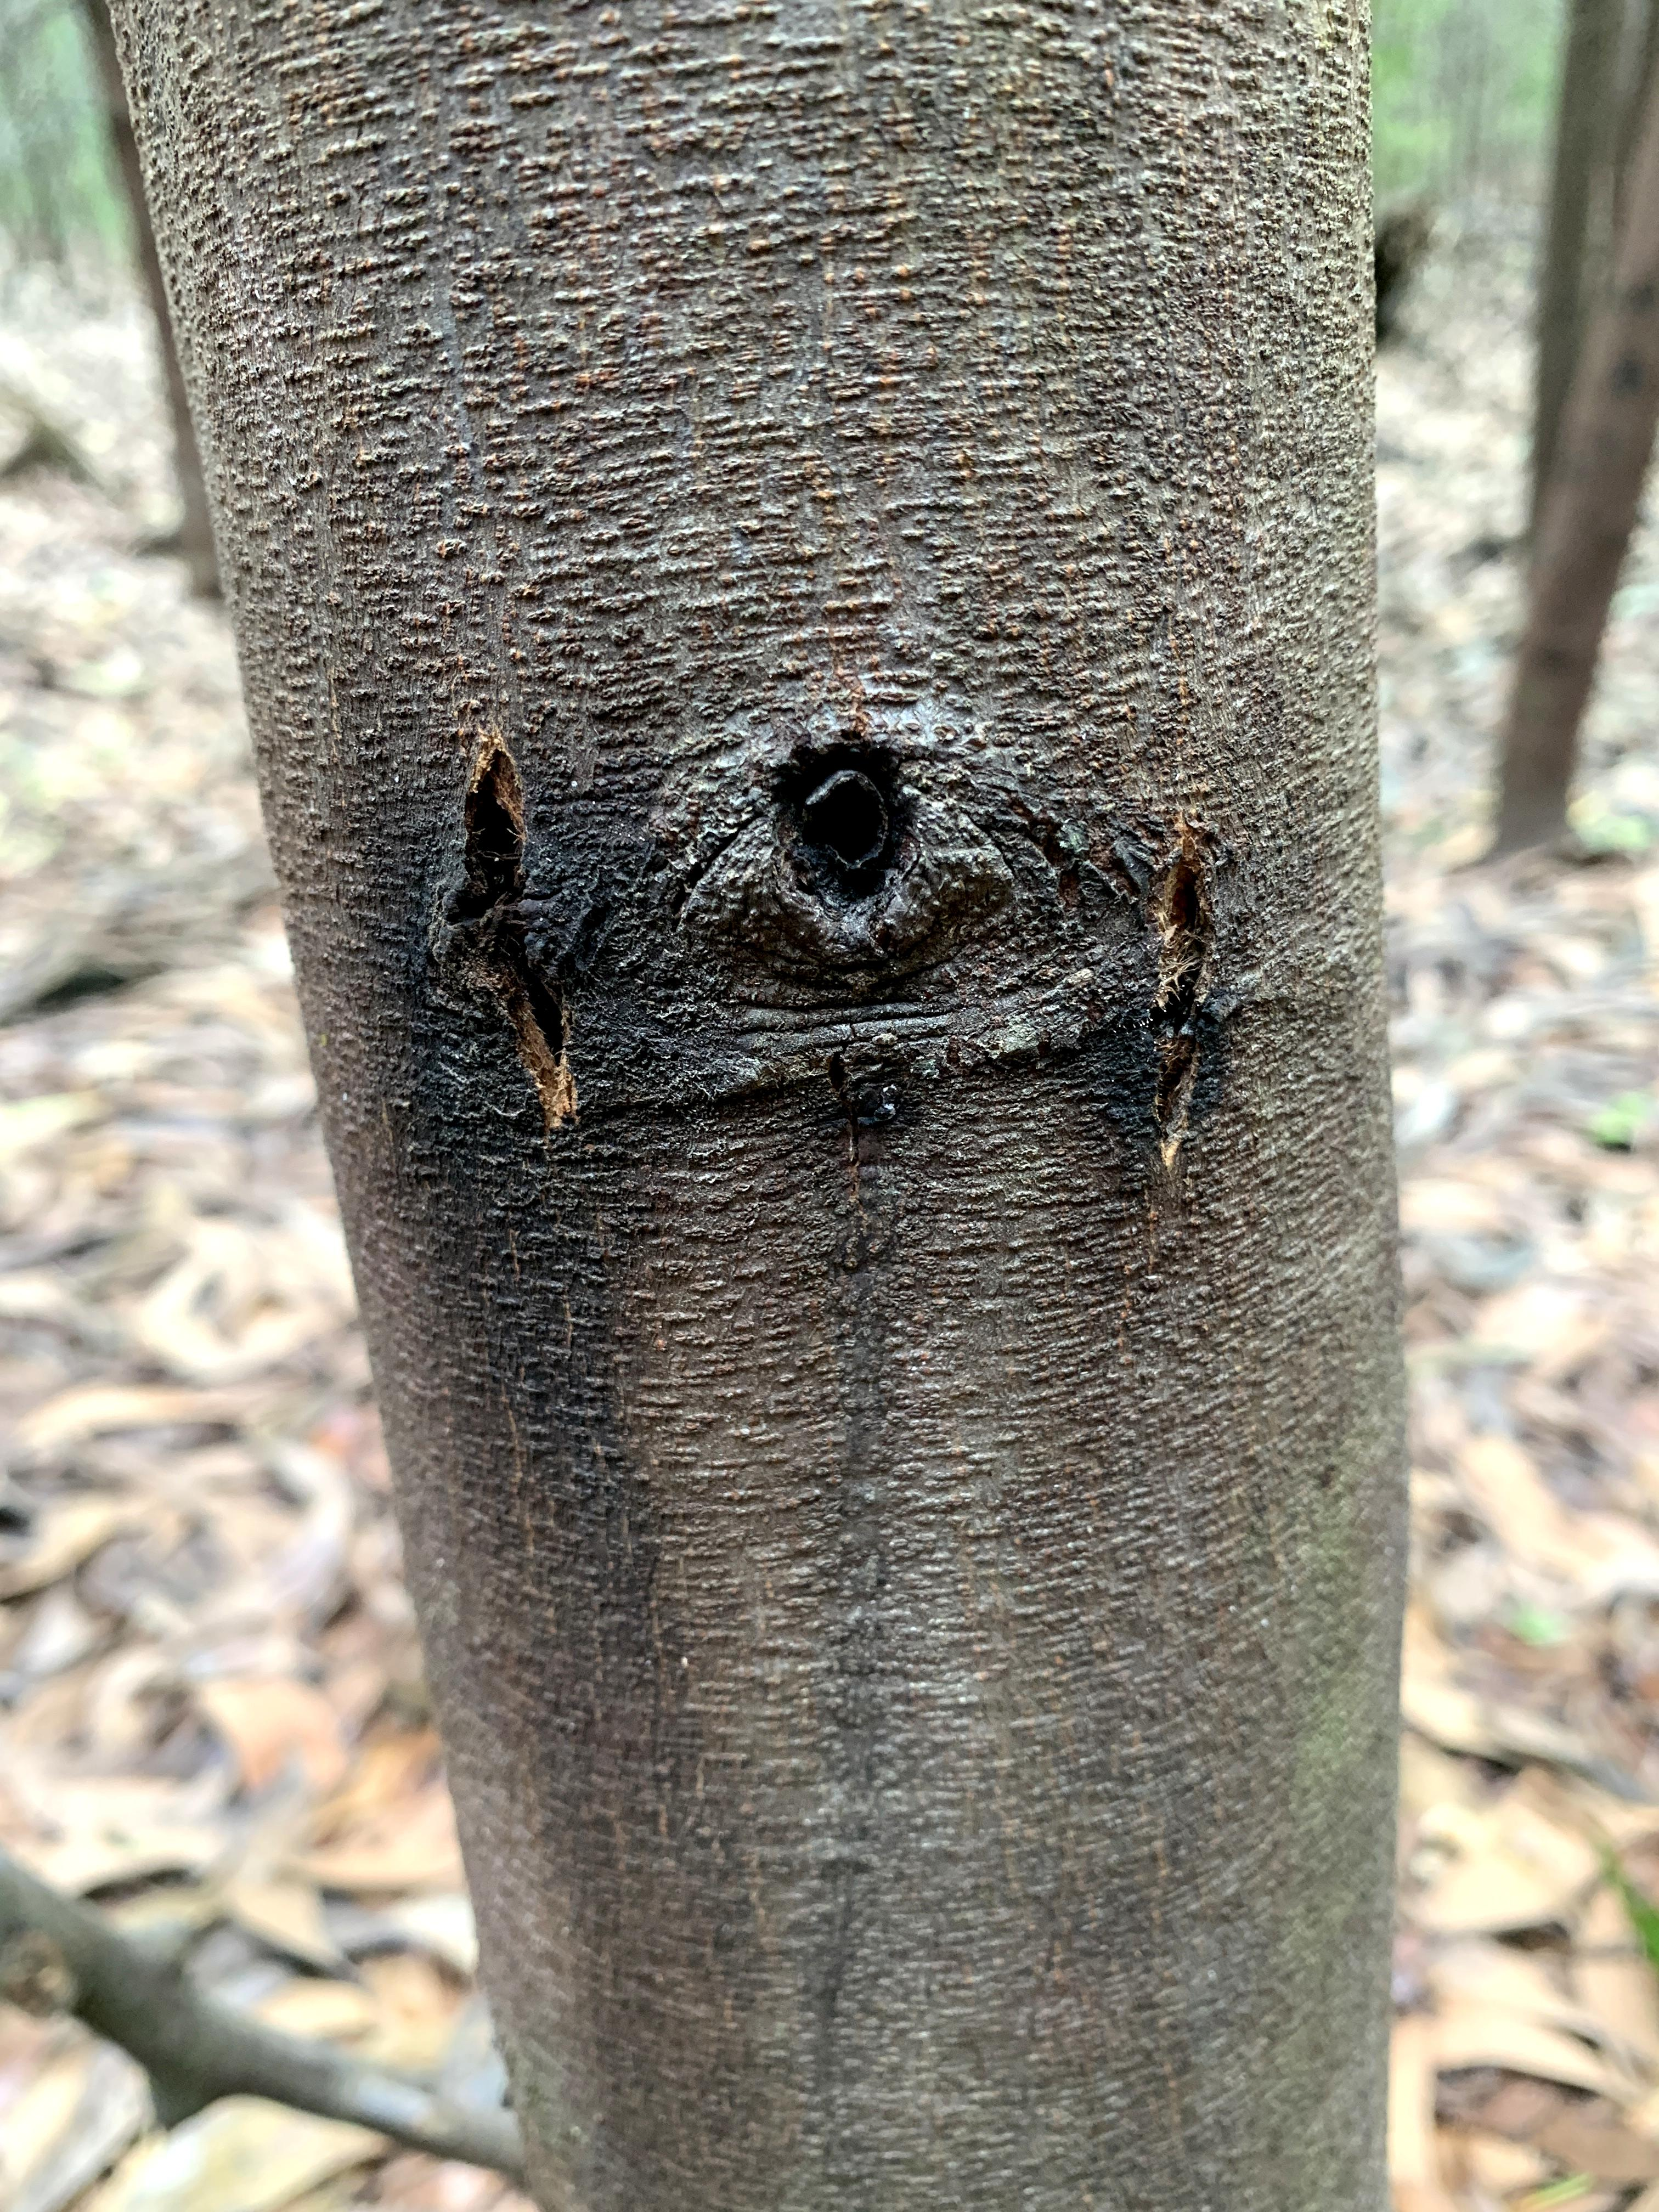Stem Borer: (648, 566, 1047, 1026), (385, 686, 669, 1162)
